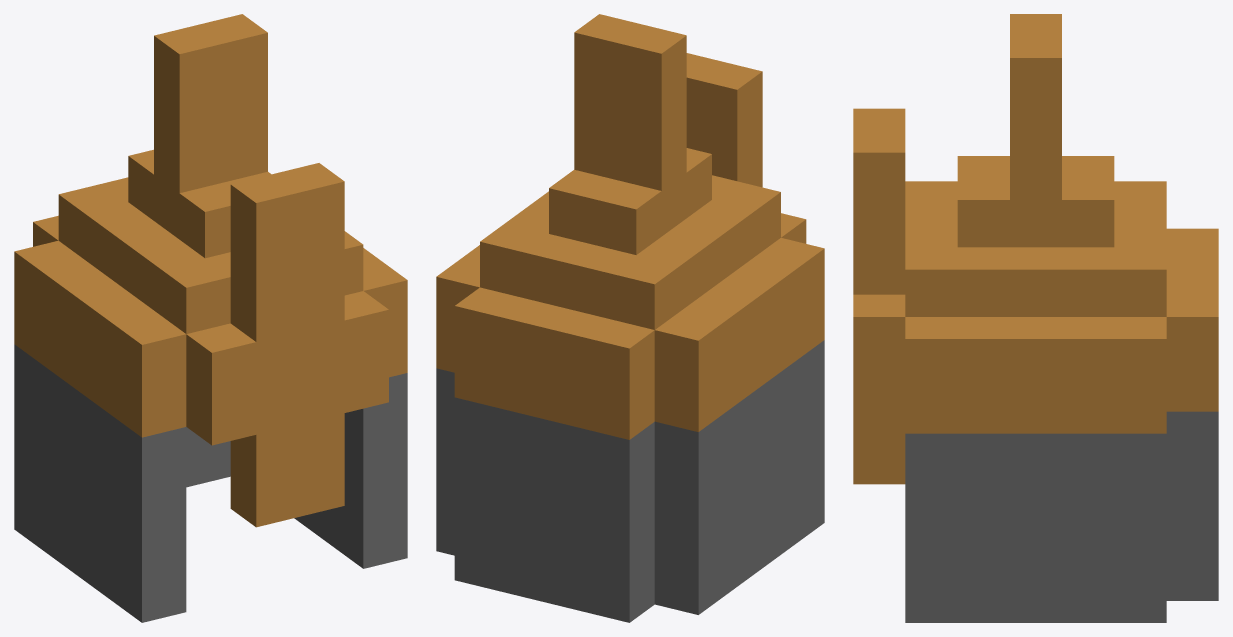
File: character-159-helm_med_2f_sh.obj
3 renders of one model, left to right at view 1: azimuth 30°, elevation 25°; view 2: azimuth 150°, elevation 25°; view 3: azimuth 270°, elevation 25°, orthographic. The views are drawn at different scales.
Visible parts, largest first — view 1: helm_med_2f_sh; view 2: helm_med_2f_sh; view 3: helm_med_2f_sh.
Part boxes in pixels (x1,y1,x2,y2): helm_med_2f_sh: [14, 14, 407, 622]; helm_med_2f_sh: [436, 14, 824, 622]; helm_med_2f_sh: [853, 14, 1218, 622].
Size of the model in its own units: 0.6 by 1.1 by 0.7.
1 material, 1 textured.
